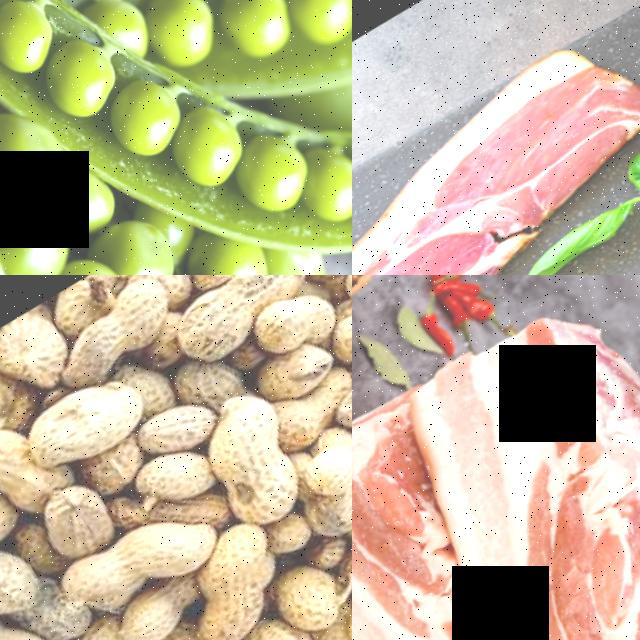peanuts: (172, 386, 310, 527), (4, 367, 152, 484), (43, 513, 190, 629), (42, 275, 185, 386), (165, 519, 291, 640), (154, 275, 316, 359), (18, 470, 120, 571), (236, 284, 344, 373), (256, 558, 349, 640), (0, 412, 44, 517), (317, 347, 352, 441), (0, 469, 19, 567), (271, 275, 352, 296)
peas: (97, 5, 352, 275), (0, 90, 322, 275), (121, 0, 352, 131)
pork belly: (359, 281, 640, 640), (352, 383, 576, 640), (397, 19, 640, 253), (352, 177, 530, 275)
